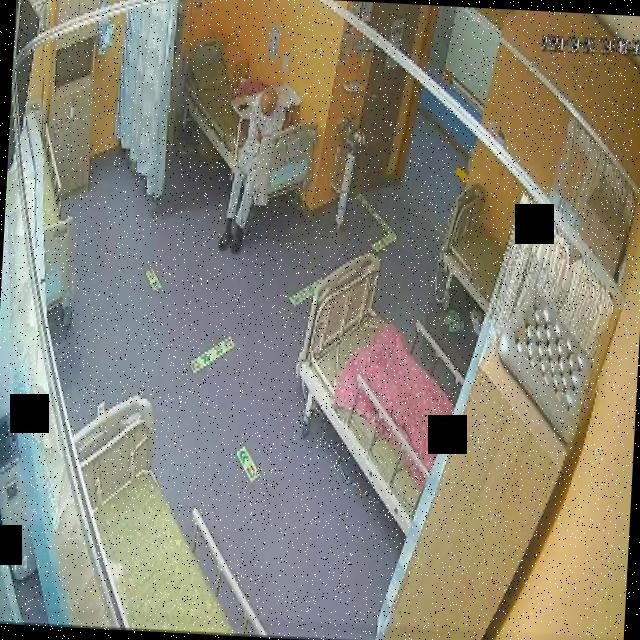bed: (62, 390, 278, 638), (294, 252, 462, 533), (176, 38, 320, 208), (437, 184, 509, 315)
patient: (216, 84, 289, 257)
sit: (215, 84, 289, 256)
